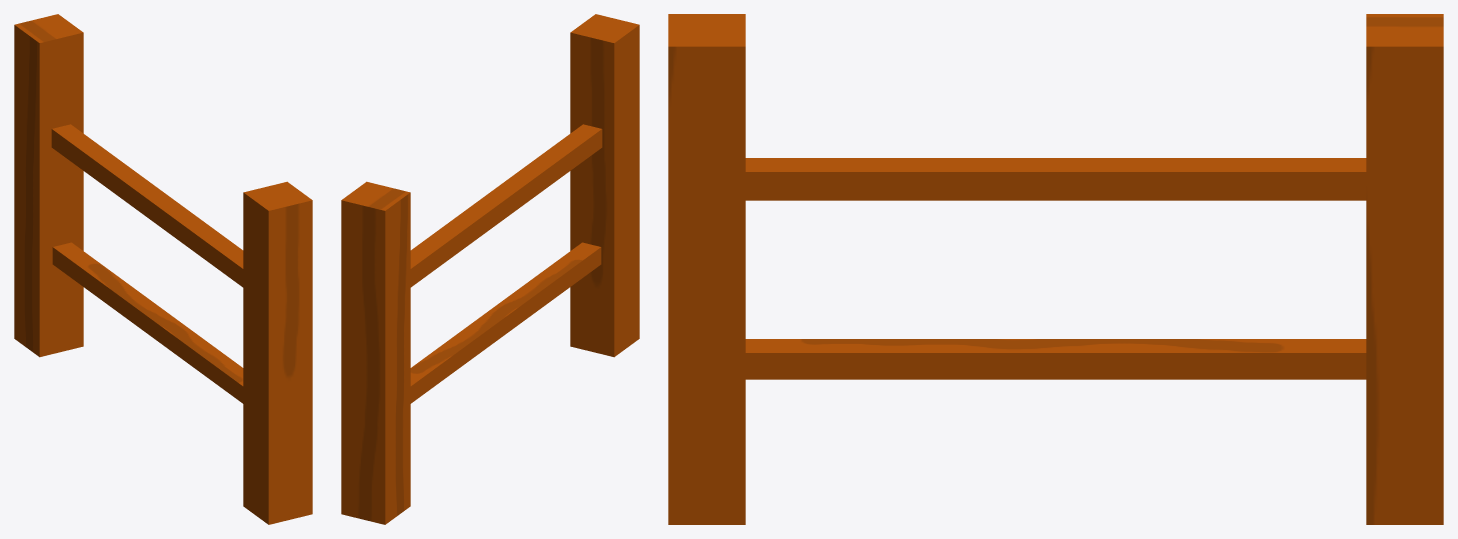
The model's file is fence.fbx.
3 views of the same model, side by side, from view 1: azimuth 30°, elevation 25°; view 2: azimuth 150°, elevation 25°; view 3: azimuth 270°, elevation 25° (orthographic). The views are drawn at different scales.
Visible parts, largest first — view 1: Fence, Pole; view 2: Fence, Pole; view 3: Fence, Pole.
Boxes of the visible parts, bbox=[...] form: Fence: bbox=[51, 124, 312, 524]; Pole: bbox=[14, 14, 83, 357]; Fence: bbox=[410, 14, 639, 403]; Pole: bbox=[341, 181, 410, 524]; Fence: bbox=[668, 14, 1366, 524]; Pole: bbox=[1366, 14, 1443, 524].
Size of the model in its own units: 74.8 by 511 by 751.
Materials: 1 (1 with a texture image).
